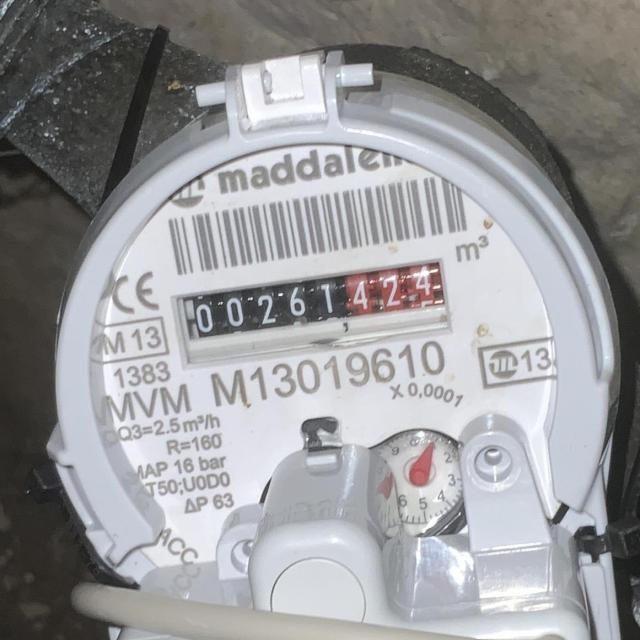gaz_meter: (87, 137, 560, 592)
indication: (178, 259, 453, 342)
